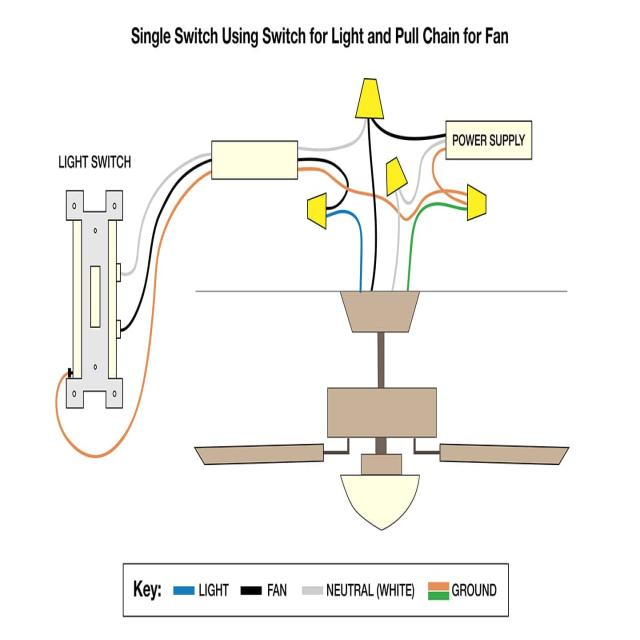electronics: (66, 191, 122, 407)
